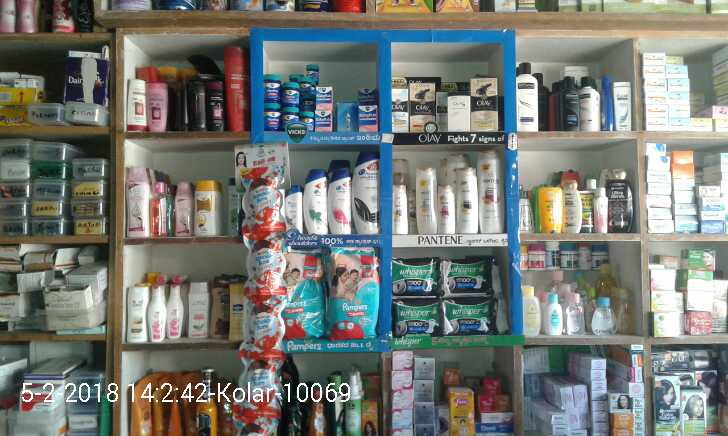beauty: (350, 152, 379, 235), (473, 152, 499, 231), (448, 164, 477, 231), (327, 166, 353, 239), (303, 172, 331, 239), (411, 164, 437, 234), (469, 74, 500, 130), (408, 80, 439, 136), (445, 91, 471, 136), (282, 179, 303, 232), (435, 188, 455, 232), (393, 90, 411, 128)
pharmacy: (324, 247, 382, 341), (282, 257, 326, 342), (439, 257, 495, 299), (394, 296, 446, 337), (443, 297, 497, 333), (390, 258, 437, 299), (356, 105, 381, 131), (277, 76, 300, 103), (262, 70, 281, 101), (313, 83, 337, 106), (313, 110, 337, 132), (283, 108, 306, 128), (265, 102, 279, 132)
